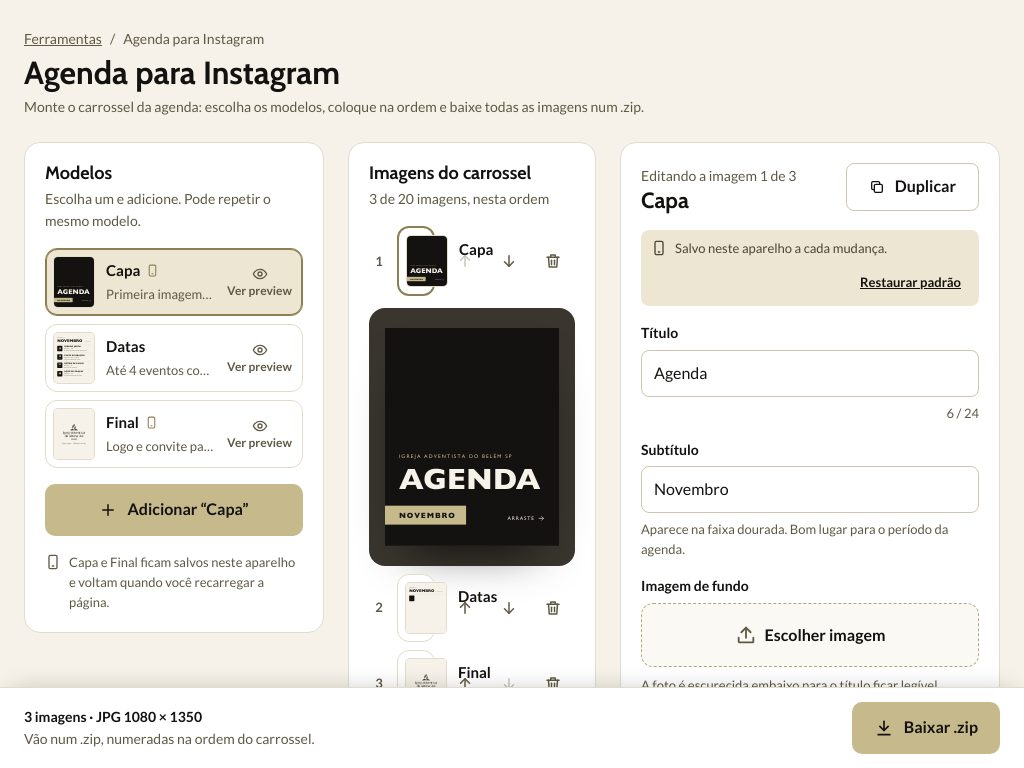
Test: AgendaEditor › updates the art while typing the cover title
Replace the text in the field labelled "Título" with "Agenda de dezembro" at [810, 373], box [641, 350, 979, 397]
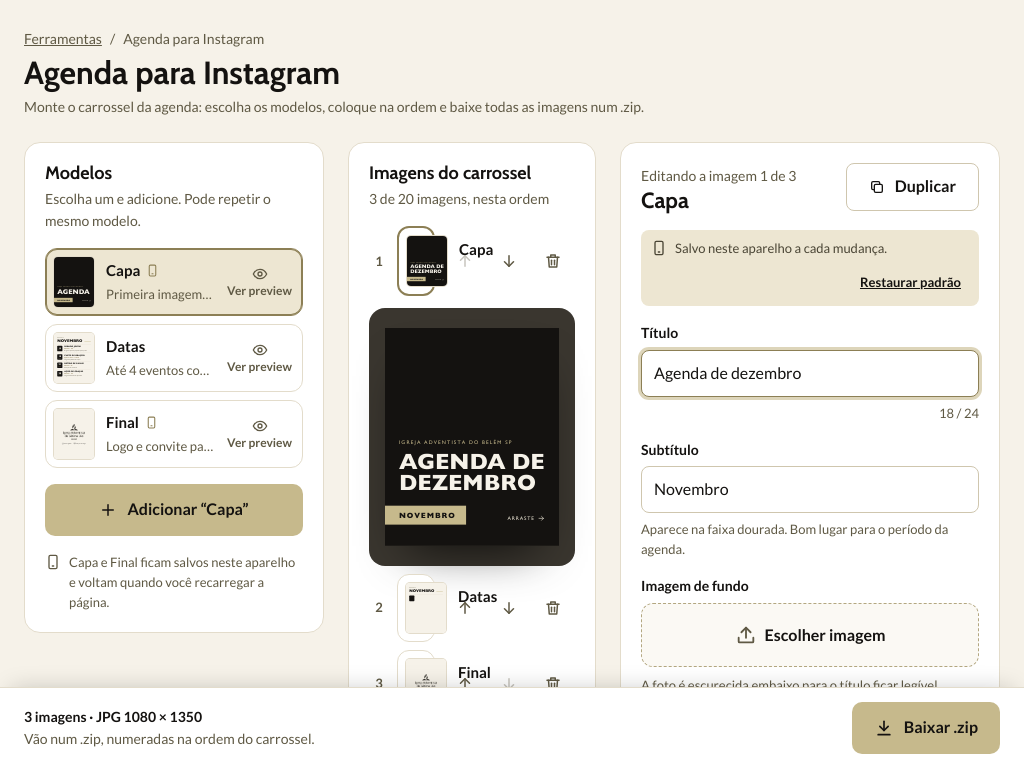
Check: the 1st picture named "Agenda de dezembro" is shown, box [407, 236, 447, 286]
